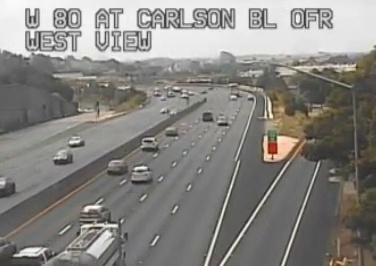car: (82, 205, 110, 222), (131, 166, 152, 182), (107, 160, 126, 173), (140, 138, 157, 150)
